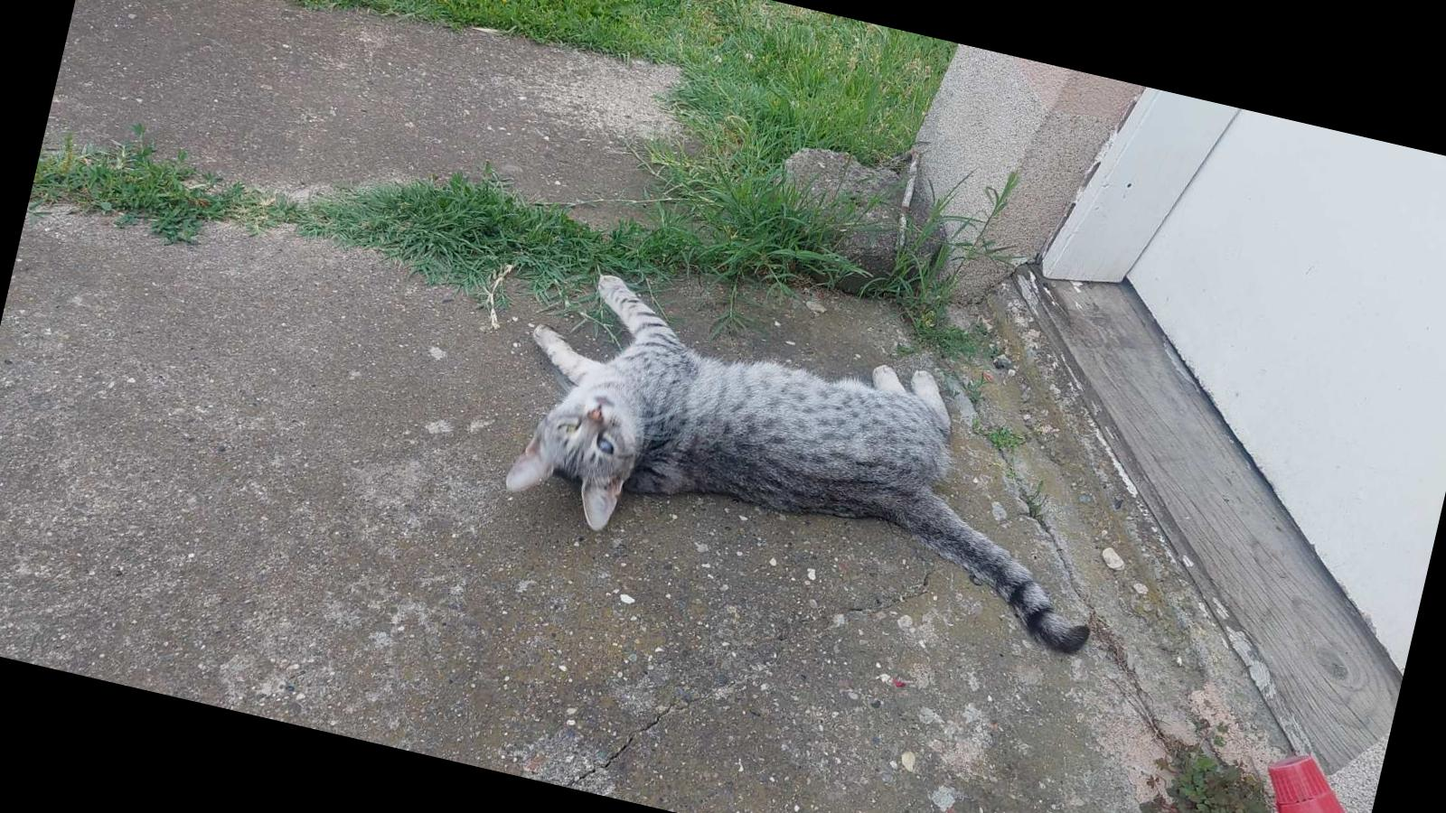macka: (486, 259, 1143, 660)
